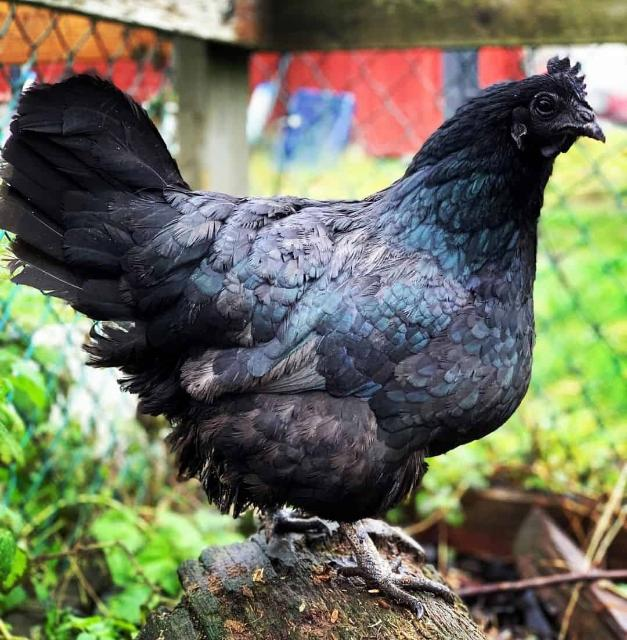Chicken: (0, 51, 603, 619)
